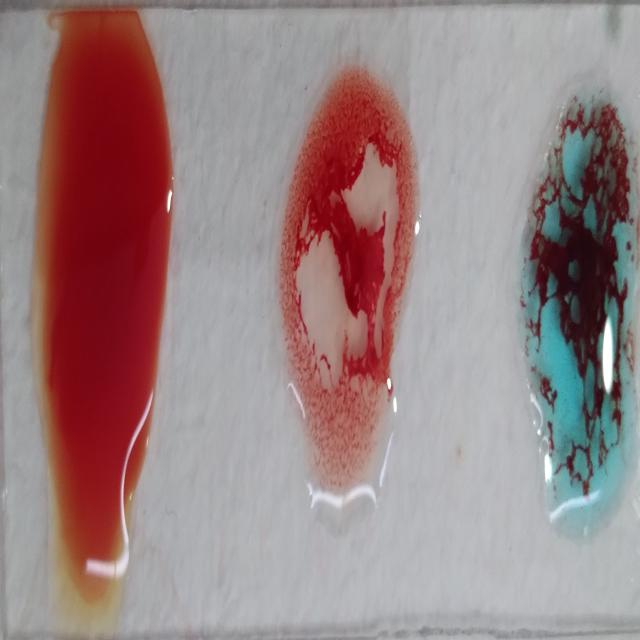A: (519, 95, 636, 513)
D: (282, 76, 412, 505)
